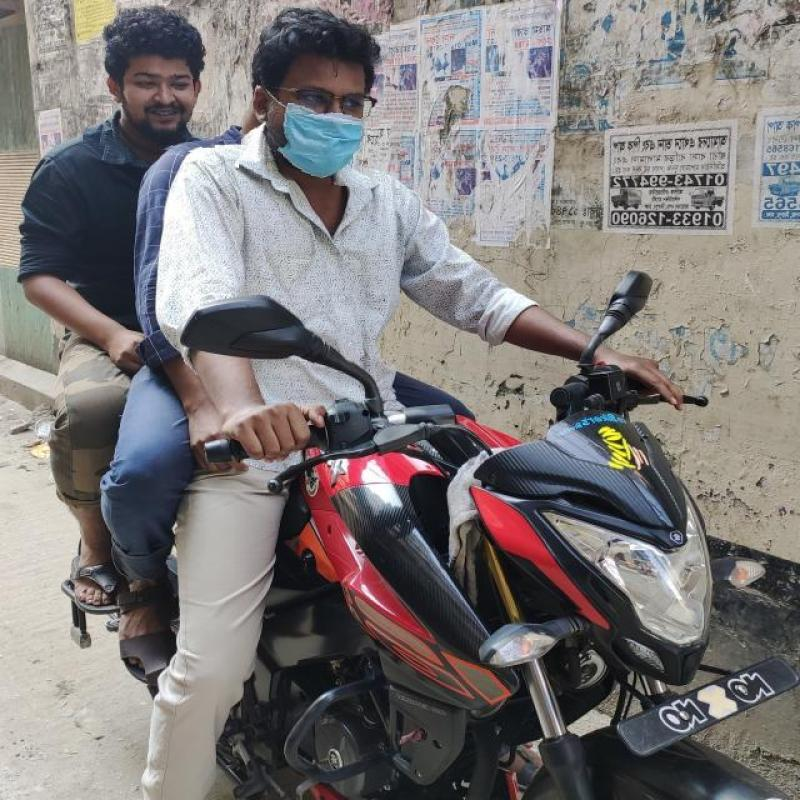nohelmet: (242, 2, 388, 186), (86, 4, 222, 152)
